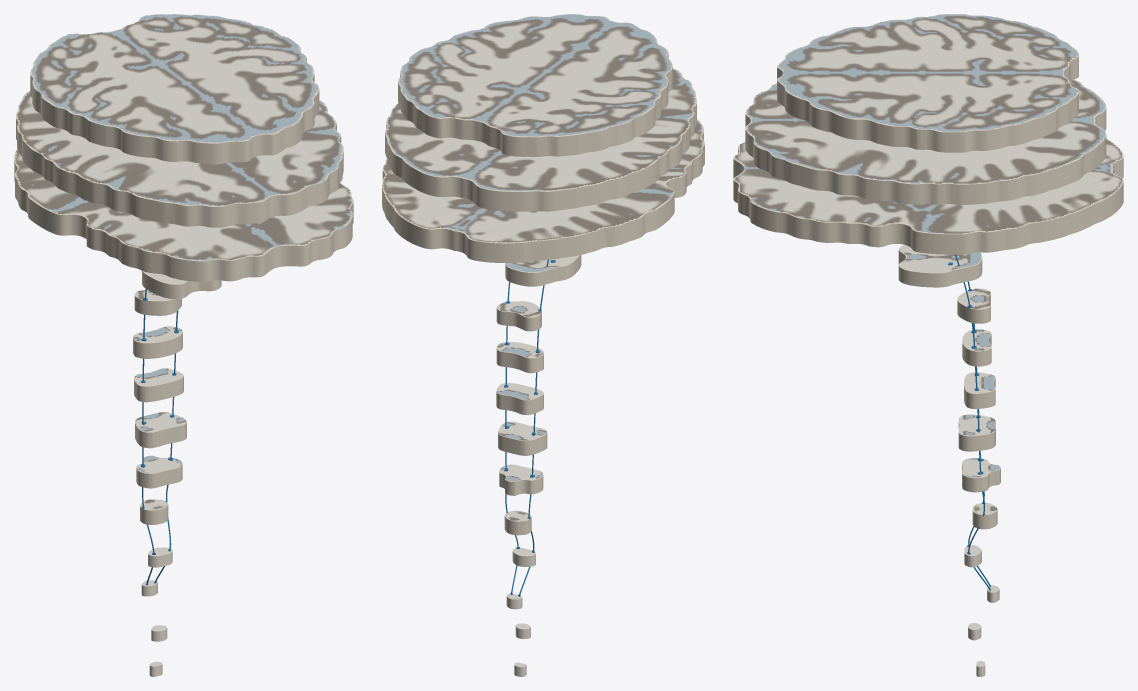
The picture shows the model from 3 angles, left to right: view 1: azimuth 30°, elevation 25°; view 2: azimuth 150°, elevation 25°; view 3: azimuth 270°, elevation 25°; orthographic projection. The views are drawn at different scales.
Visible parts, largest first — view 1: L15·切面（灰白质）, L14·切面（灰白质）, L13·切面（灰白质）, L13·背景·丘脑内囊, L14·背景·放射冠, L15·背景·皮质上部, L11·背景·下丘, L07·背景·橄榄中部, L09·背景·脑桥中部, L08·背景·脑桥下部, L06·背景·丘系交叉, L10·背景·脑桥上部 (+4 smaller); view 2: L15·切面（灰白质）, L14·切面（灰白质）, L13·切面（灰白质）, L13·背景·丘脑内囊, L14·背景·放射冠, L15·背景·皮质上部, L11·背景·下丘, L07·背景·橄榄中部, L09·背景·脑桥中部, L08·背景·脑桥下部, L10·背景·脑桥上部, L06·背景·丘系交叉 (+5 smaller); view 3: L15·切面（灰白质）, L14·切面（灰白质）, L13·切面（灰白质）, L13·背景·丘脑内囊, L14·背景·放射冠, L15·背景·皮质上部, L11·背景·下丘, L11·切面（灰白质）, L07·切面（灰白质）, L07·背景·橄榄中部, L06·背景·丘系交叉.
Part boxes in pixels (x1,y1,x2,y2): L15·切面（灰白质）: (31, 14, 318, 142); L14·切面（灰白质）: (17, 91, 342, 206); L13·切面（灰白质）: (15, 150, 352, 260); L13·背景·丘脑内囊: (14, 148, 353, 281); L14·背景·放射冠: (16, 91, 343, 227); L15·背景·皮质上部: (30, 14, 319, 164); L11·背景·下丘: (142, 271, 221, 299); L07·背景·橄榄中部: (135, 419, 186, 448); L09·背景·脑桥中部: (133, 329, 182, 358); L08·背景·脑桥下部: (134, 373, 183, 402); L06·背景·丘系交叉: (136, 460, 182, 488); L10·背景·脑桥上部: (134, 293, 181, 315); L15·切面（灰白质）: (399, 14, 671, 136); L14·切面（灰白质）: (385, 68, 695, 191); L13·切面（灰白质）: (383, 121, 703, 242); L13·背景·丘脑内囊: (382, 119, 704, 263); L14·背景·放射冠: (385, 68, 696, 211); L15·背景·皮质上部: (398, 14, 672, 156); L11·背景·下丘: (505, 255, 581, 286); L07·背景·橄榄中部: (498, 423, 547, 455); L09·背景·脑桥中部: (496, 344, 543, 373); L08·背景·脑桥下部: (496, 384, 543, 415); L10·背景·脑桥上部: (496, 301, 541, 331); L06·背景·丘系交叉: (499, 467, 543, 495); L15·切面（灰白质）: (779, 14, 1078, 131); L14·切面（灰白质）: (747, 80, 1104, 183); L13·切面（灰白质）: (735, 138, 1121, 233); L13·背景·丘脑内囊: (733, 139, 1123, 254); L14·背景·放射冠: (745, 79, 1106, 204); L15·背景·皮质上部: (777, 14, 1078, 152); L11·背景·下丘: (898, 245, 982, 287); L11·切面（灰白质）: (900, 245, 980, 272); L07·切面（灰白质）: (959, 414, 995, 435); L07·背景·橄榄中部: (958, 418, 995, 451); L06·背景·丘系交叉: (962, 460, 1000, 492).
Bounding box in the file's own units: 13.92 × 29.72 × 17.47.
